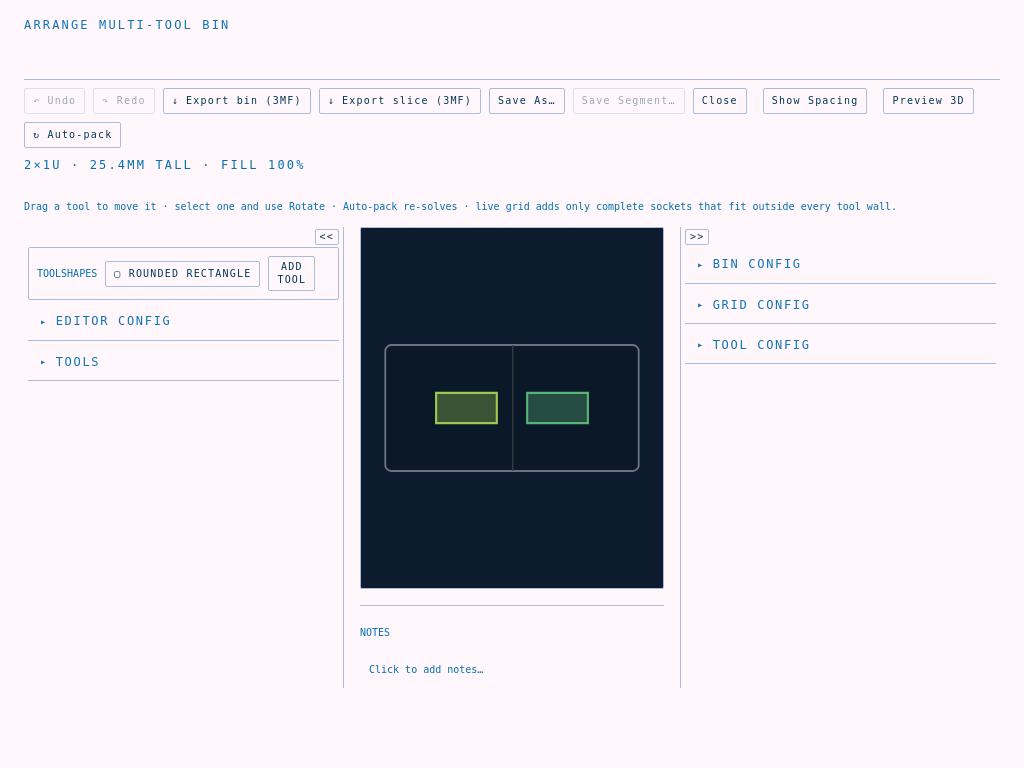
Test case: CombineEditor toolshapes › clicking the canvas creates the toolshape at that point and selects it
The image size is (1024, 768).
Click the button "▢ Rounded Rectangle" at (183, 274), box [105,261,260,287]
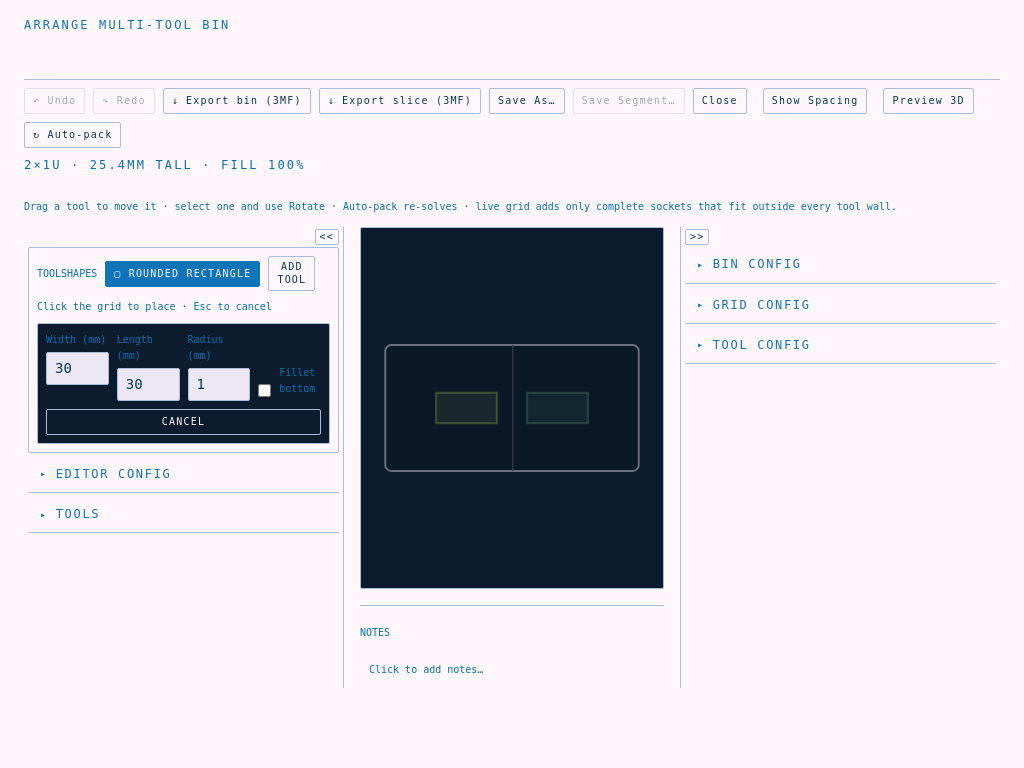
Expected: the number field named "New toolshape width in millimetres" is shown, [46,352,109,385]
Press the mouse on the icon at (512, 408), box [361,228,663,588]
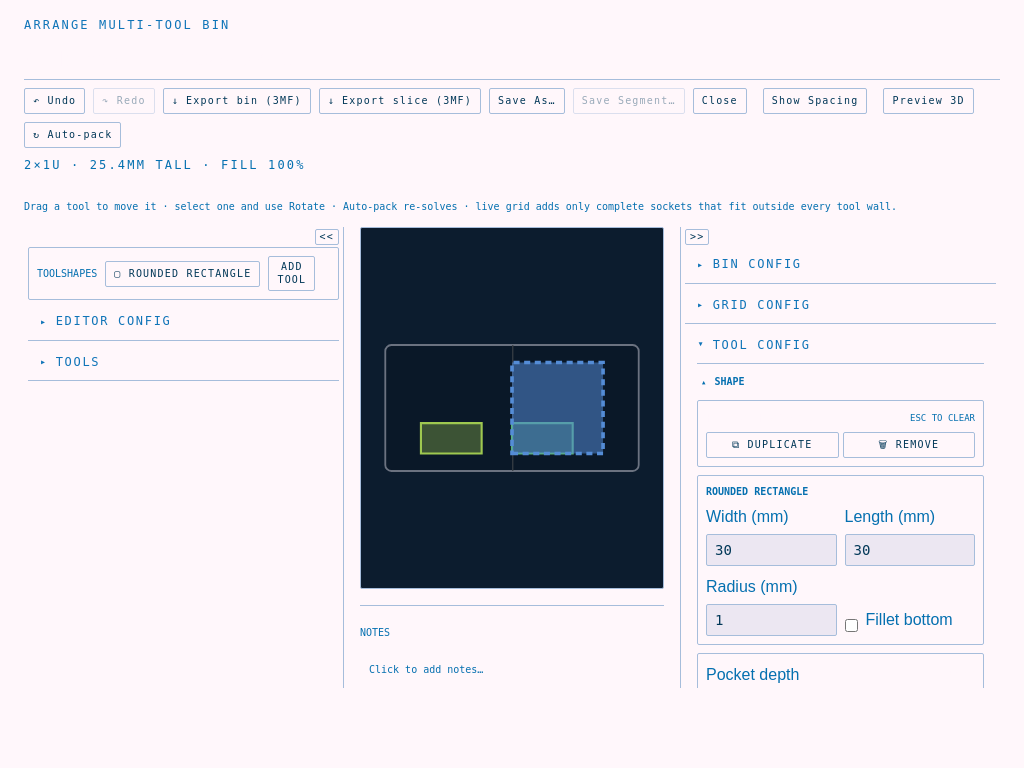
Expected: the text "Click the grid to place · Esc to cancel" is gone
